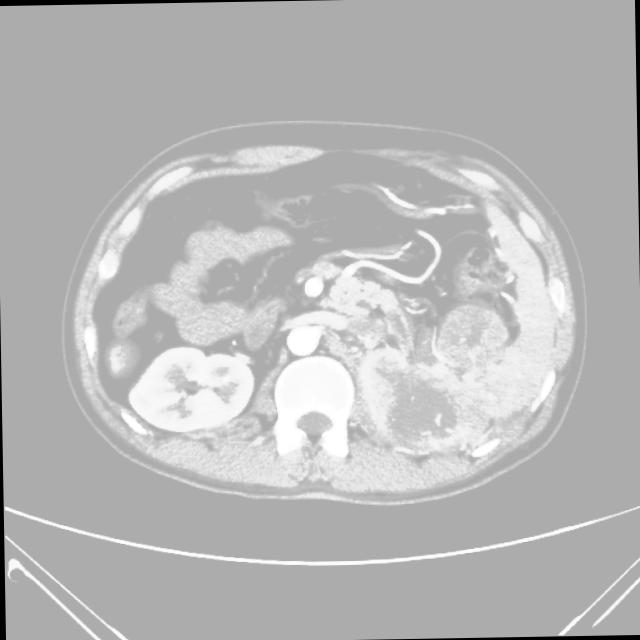TUMOR: (115, 179, 529, 433)
